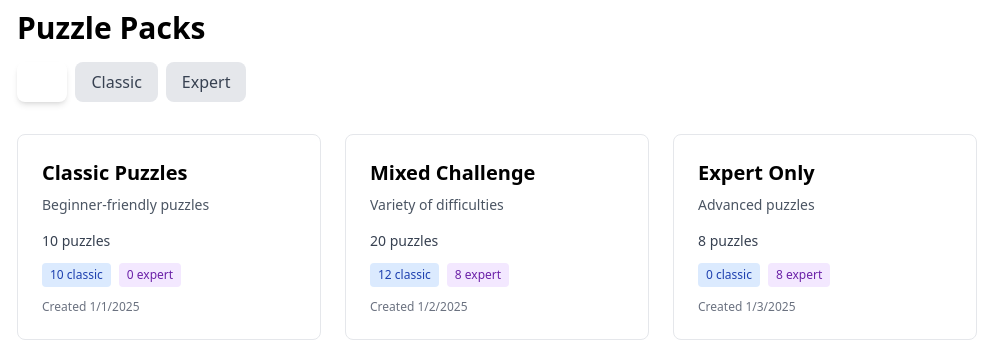
it: Packs Index Filtering › should filter packs by classic difficulty
Check: the heading "Classic Puzzles" is shown, box [42,159,188,186]
Step 1. Click the button "Classic" → (117, 82), box [76,62,158,102]
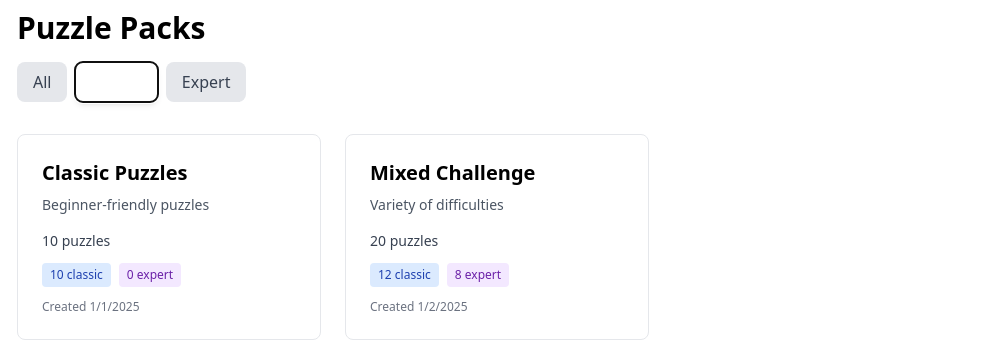
Check: the heading "Classic Puzzles" is shown, box [42,159,188,186]
Check: the link "Expert Only" is gone
